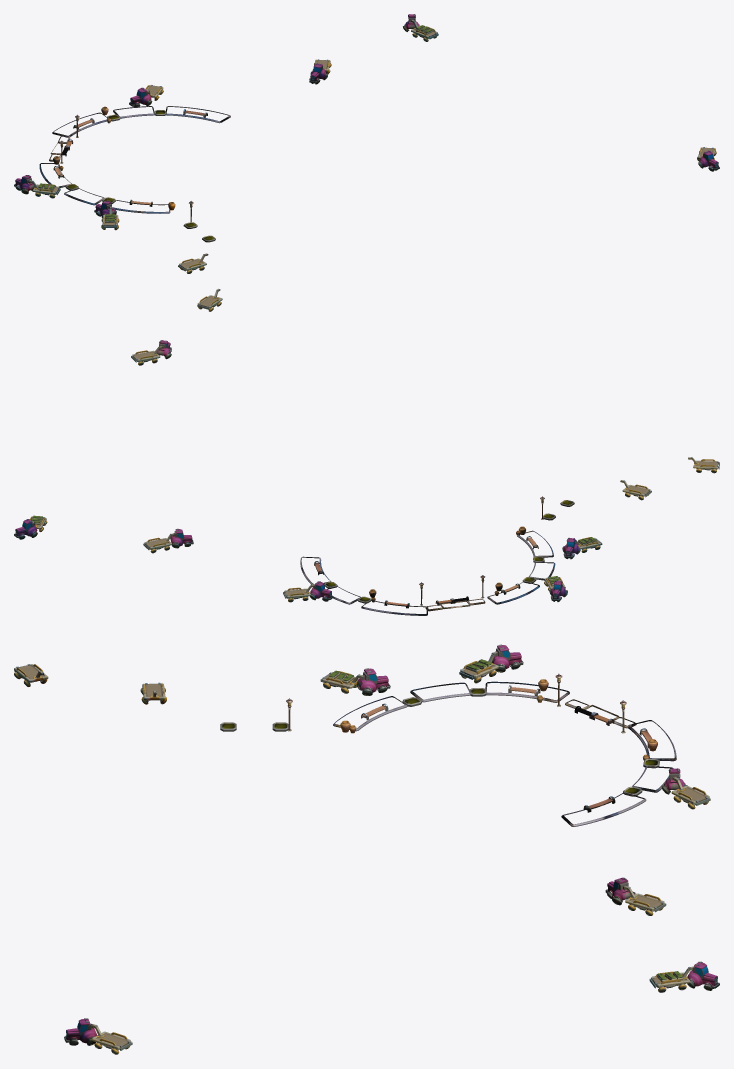
The model's file is pref_sm_garden_props_vray_007_lv2.fbx.
3 renders of one model, top to bottom at view 1: azimuth 30°, elevation 25°; view 2: azimuth 150°, elevation 25°; view 3: azimuth 270°, elevation 25°, orthographic. The views are drawn at different scales.
Parts seen in each view (by area): view 1: pref_sm_garden_props_vray_007_lv2; view 2: pref_sm_garden_props_vray_007_lv2; view 3: pref_sm_garden_props_vray_007_lv2.
Boxes of the visible parts, box(x1,y1,x2,y2) form: pref_sm_garden_props_vray_007_lv2: box(14, 14, 719, 311); pref_sm_garden_props_vray_007_lv2: box(14, 340, 719, 615); pref_sm_garden_props_vray_007_lv2: box(14, 644, 719, 1054).
Bounding box in the file's own units: 116 × 4.79 × 88.39.
Materials: 1 (1 with a texture image).
